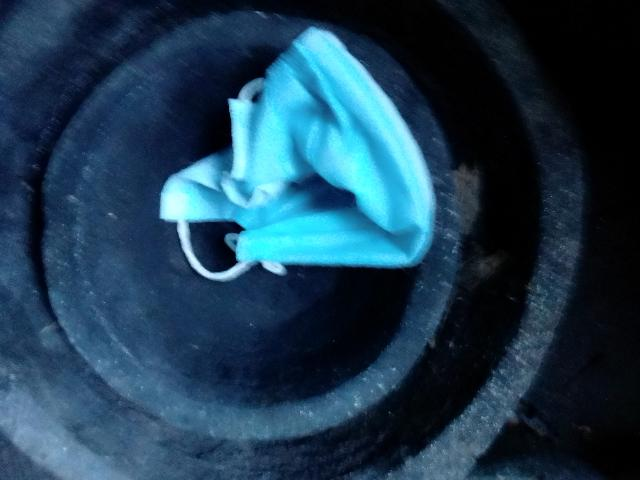mask: (157, 15, 474, 310)
